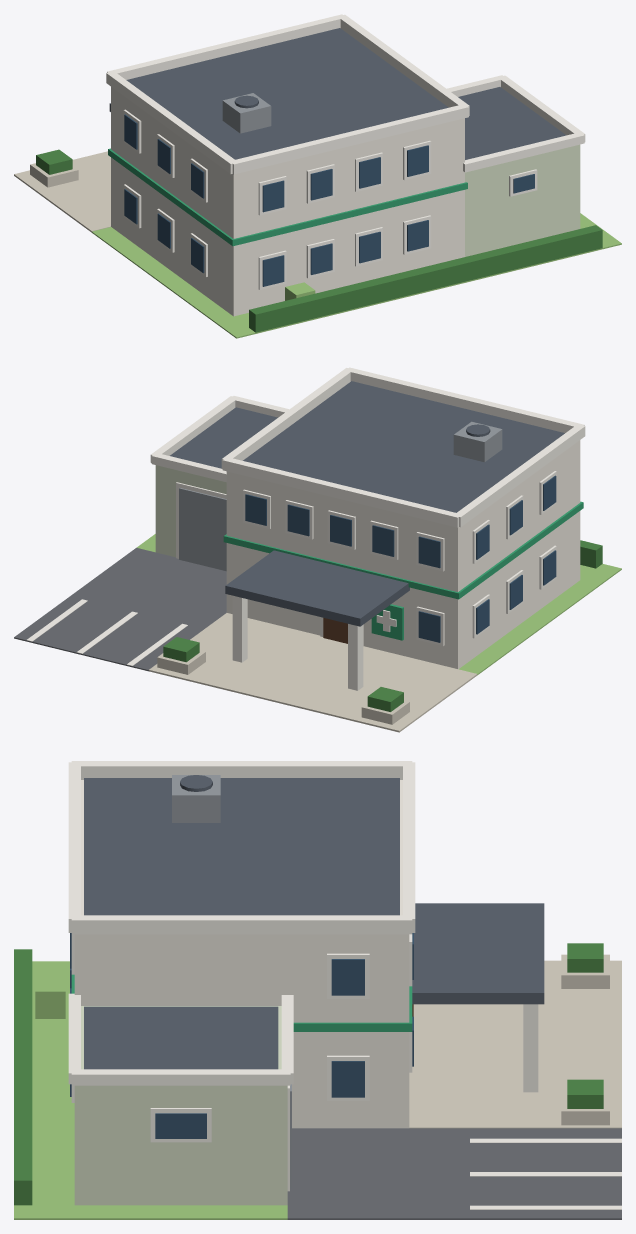
Rendered from clinic.glb.
3 views of the same model, one above another, from view 1: azimuth 30°, elevation 25°; view 2: azimuth 150°, elevation 25°; view 3: azimuth 270°, elevation 25° (orthographic). The views are drawn at different scales.
Visible parts, largest first — view 1: building, roof (×2), parapet (×7), ambulance_bay, hedge, window_glass (×8), forecourt, accent_band, lawn_side, garden, ac_unit_body, planter_hedge (+1 smaller); view 2: building, roof (×2), forecourt, car_park, parapet (×7), canopy, window_glass (×6), garage_door, lawn_side, ambulance_bay, accent_band, canopy_post (×2) (+7 smaller); view 3: roof (×2), building, car_park, forecourt, ambulance_bay, parapet (×7), canopy, garden, hedge, window_glass (×3), lawn_right, window_frame (×3) (+7 smaller).
Part boxes in pixels (left/top/right/bottom): building: left=111, top=87, right=464, bottom=316; roof (×2): left=126, top=28, right=566, bottom=159; parapet (×7): left=106, top=14, right=585, bottom=174; ambulance_bay: left=465, top=144, right=580, bottom=256; hedge: left=249, top=225, right=602, bottom=332; window_glass (×8): left=262, top=145, right=428, bottom=286; forecourt: left=14, top=151, right=110, bottom=232; accent_band: left=108, top=148, right=467, bottom=246; lawn_side: left=92, top=227, right=233, bottom=321; garden: left=214, top=227, right=621, bottom=338; ac_unit_body: left=222, top=93, right=271, bottom=133; planter_hedge: left=36, top=149, right=72, bottom=174; building: left=226, top=440, right=580, bottom=669; roof (×2): left=170, top=381, right=564, bottom=512; forecourt: left=149, top=613, right=477, bottom=732; car_park: left=14, top=547, right=226, bottom=671; parapet (×7): left=150, top=367, right=585, bottom=527; canopy: left=225, top=550, right=409, bottom=626; window_glass (×6): left=245, top=494, right=440, bottom=642; garage_door: left=179, top=488, right=226, bottom=571; lawn_side: left=459, top=580, right=599, bottom=675; ambulance_bay: left=155, top=465, right=226, bottom=557; accent_band: left=223, top=501, right=583, bottom=599; canopy_post (×2): left=232, top=595, right=363, bottom=690; roof (×2): left=84, top=778, right=399, bottom=1069; building: left=74, top=780, right=409, bottom=1128; car_park: left=287, top=1128, right=621, bottom=1219; forecourt: left=409, top=960, right=621, bottom=1128; ambulance_bay: left=74, top=1006, right=287, bottom=1205; parapet (×7): left=68, top=761, right=415, bottom=1085; canopy: left=412, top=903, right=544, bottom=1004; garden: left=14, top=961, right=74, bottom=1219; hedge: left=14, top=949, right=32, bottom=1205; window_glass (×3): left=155, top=959, right=364, bottom=1138; lawn_right: left=74, top=1205, right=287, bottom=1219; window_frame (×3): left=150, top=953, right=369, bottom=1142.
Bounding box in the file's own units: 20 × 8.44 × 20.
